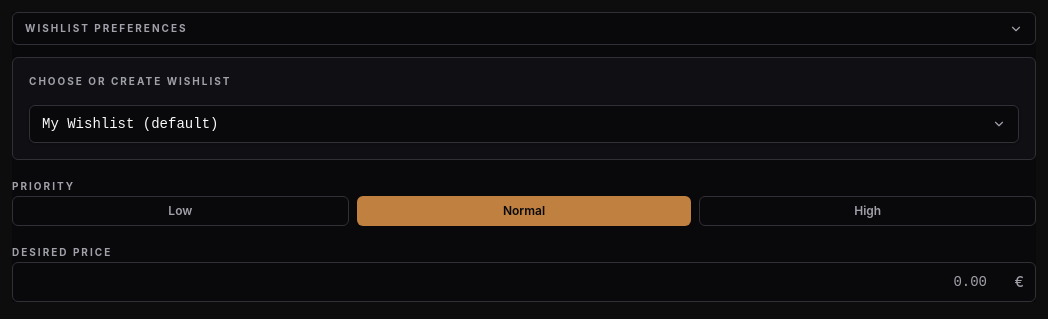
Scenario: WishlistSection › shows available wishlists in dropdown
The width and height of the screenshot is (1048, 319).
Click the button with aria-label "select a wishlist".
click(130, 124)  # box [29, 105, 1019, 143]
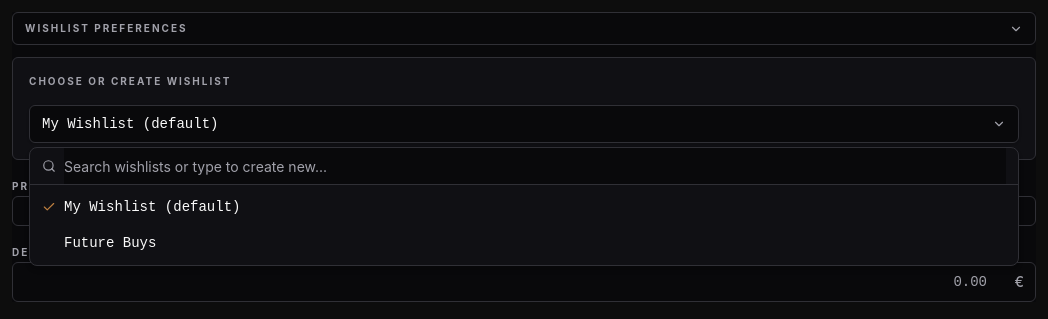
Now the option "My Wishlist (default)" is shown, box [30, 189, 1018, 225]
Now the option "Future Buys" is shown, box [30, 225, 1018, 261]
